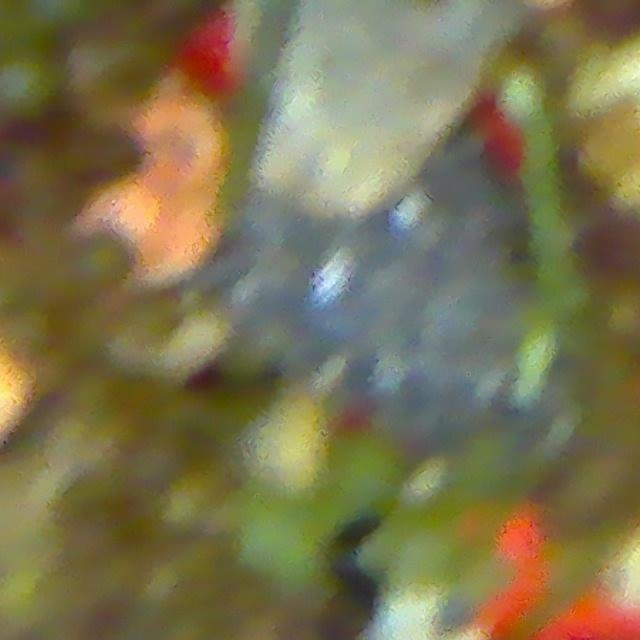SeaGrape: (63, 20, 169, 113), (328, 432, 411, 516), (68, 120, 146, 192), (0, 43, 66, 126), (66, 228, 139, 300), (0, 306, 53, 362)
